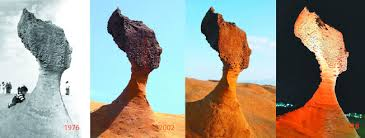yehliu: (101, 4, 173, 84), (192, 5, 266, 79), (289, 7, 358, 80), (11, 6, 77, 80)
